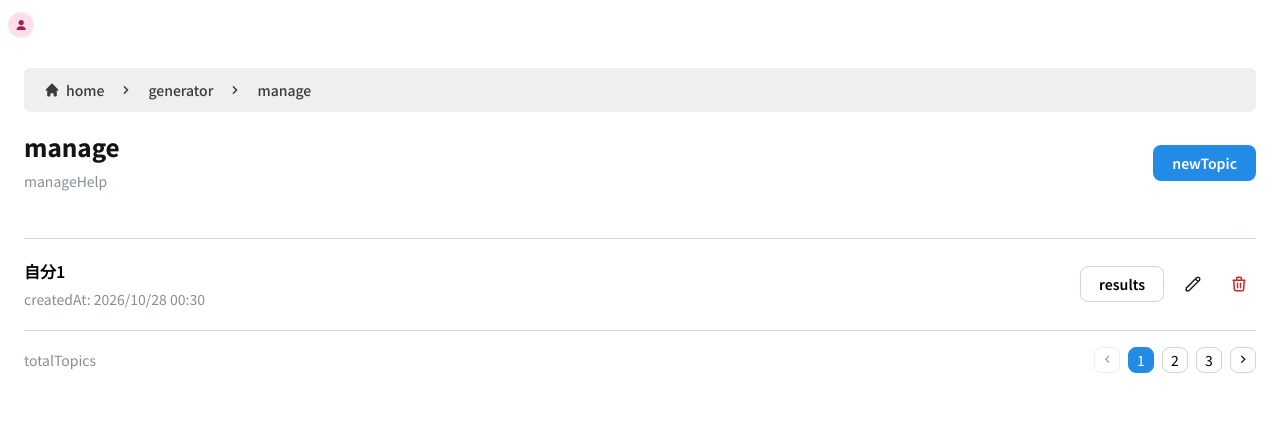
Test: 作成したお題・集計の専用ページ › 管理モードの切替時はページを先頭に戻す
Expected: the heading "自分1" is shown, x1=24 y1=259 x2=65 y2=283
What coordinates should you click on to do the following:
click the button named "pagination.next"
I would click on:
 (1243, 360)
Its box is x1=1230 y1=347 x2=1256 y2=373.
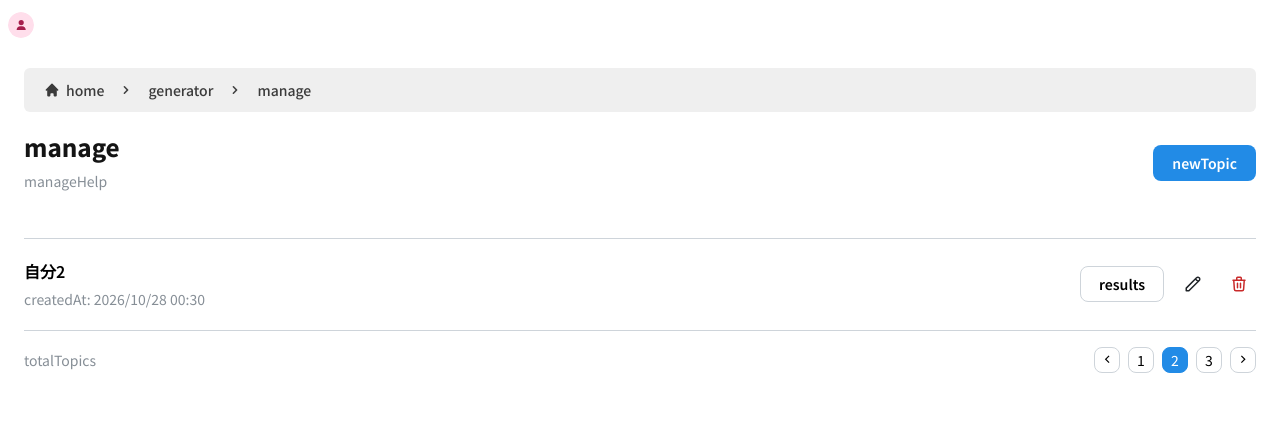
Now the heading "自分2" is shown, box x1=24 y1=259 x2=65 y2=283
What coordinates should you click on to do the following:
click the button named "menuLabel"
I would click on:
 (21, 25)
Its box is x1=8 y1=12 x2=34 y2=38.
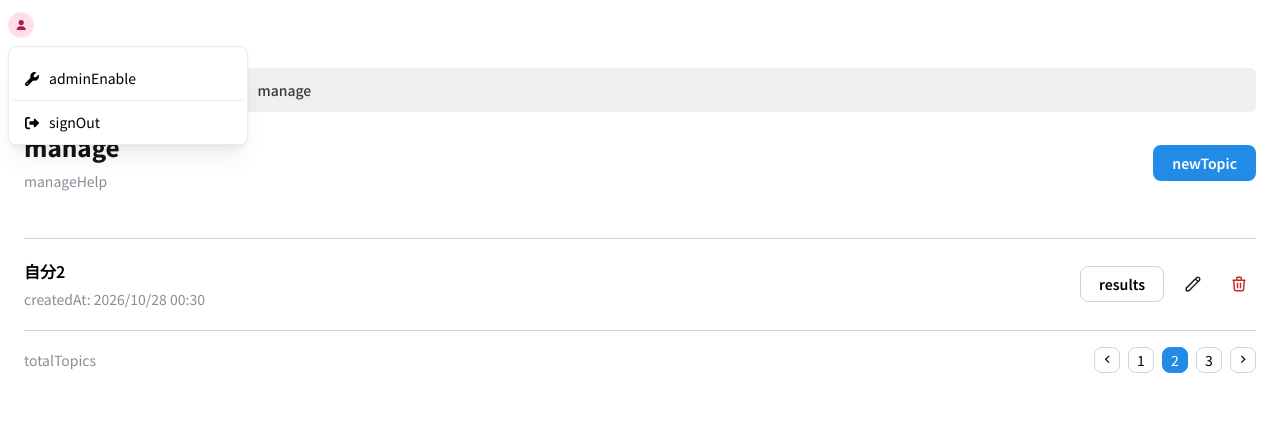
What coordinates should you click on to do the following:
click the menu item "adminEnable"
I would click on:
 (128, 78)
Its box is x1=13 y1=61 x2=243 y2=96.
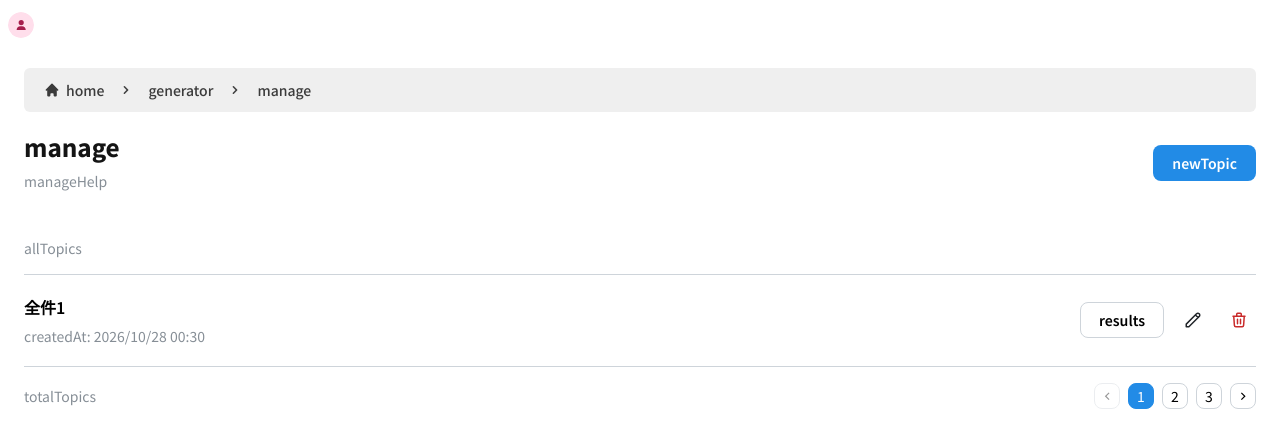
Now the heading "全件1" is shown, box x1=24 y1=295 x2=65 y2=319
